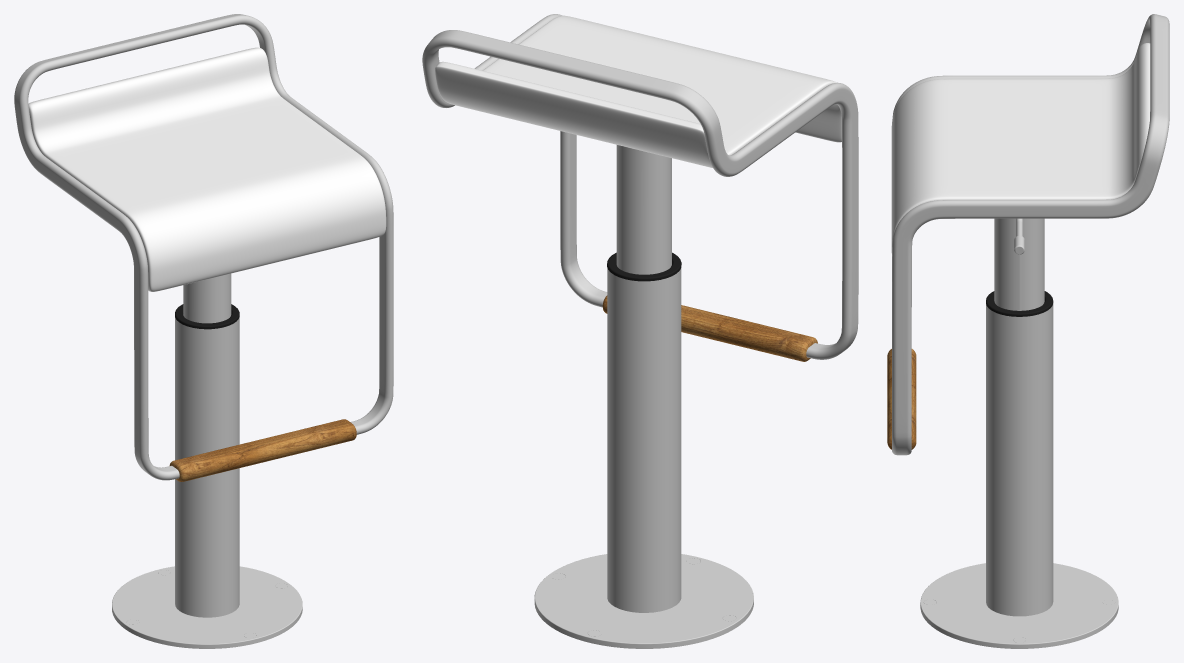
3 views of the same model, side by side, from view 1: azimuth 30°, elevation 25°; view 2: azimuth 150°, elevation 25°; view 3: azimuth 270°, elevation 25° (orthographic). The views are drawn at different scales.
Parts seen in each view (by area): view 1: c113-seduta-tessuto, c113-tubo-fisso, c113-seduta-acciaio, c113-base-piastra, c113-poggiapiedi-legno, c113-tubo-mobile, c113-tubo-boccola; view 2: c113-seduta-tessuto, c113-tubo-fisso, c113-seduta-acciaio, c113-base-piastra, c113-tubo-mobile, c113-poggiapiedi-legno, c113-tubo-boccola; view 3: c113-seduta-tessuto, c113-tubo-fisso, c113-seduta-acciaio, c113-base-piastra, c113-tubo-mobile, c113-poggiapiedi-legno, c113-tubo-boccola.
Boxes of the visible parts, left/top/right/bottom form: c113-seduta-tessuto: left=28, top=47, right=386, bottom=291; c113-tubo-fisso: left=175, top=317, right=239, bottom=617; c113-seduta-acciaio: left=14, top=14, right=393, bottom=480; c113-base-piastra: left=112, top=566, right=302, bottom=648; c113-poggiapiedi-legno: left=169, top=419, right=356, bottom=481; c113-tubo-mobile: left=183, top=273, right=231, bottom=323; c113-tubo-boccola: left=175, top=304, right=239, bottom=329; c113-seduta-tessuto: left=435, top=15, right=841, bottom=167; c113-tubo-fisso: left=607, top=268, right=681, bottom=612; c113-seduta-acciaio: left=422, top=14, right=858, bottom=359; c113-base-piastra: left=534, top=554, right=753, bottom=648; c113-tubo-mobile: left=616, top=145, right=671, bottom=274; c113-poggiapiedi-legno: left=602, top=295, right=817, bottom=361; c113-tubo-boccola: left=607, top=252, right=681, bottom=281; c113-seduta-tessuto: left=891, top=43, right=1150, bottom=255; c113-tubo-fisso: left=986, top=303, right=1053, bottom=616; c113-seduta-acciaio: left=892, top=14, right=1169, bottom=455; c113-base-piastra: left=920, top=563, right=1118, bottom=648; c113-tubo-mobile: left=994, top=218, right=1044, bottom=310; c113-poggiapiedi-legno: left=887, top=349, right=916, bottom=449; c113-tubo-boccola: left=986, top=291, right=1053, bottom=316.
Size of the model in its own units: 0.4852 by 0.9046 by 0.4269.
4 materials, 1 textured.
